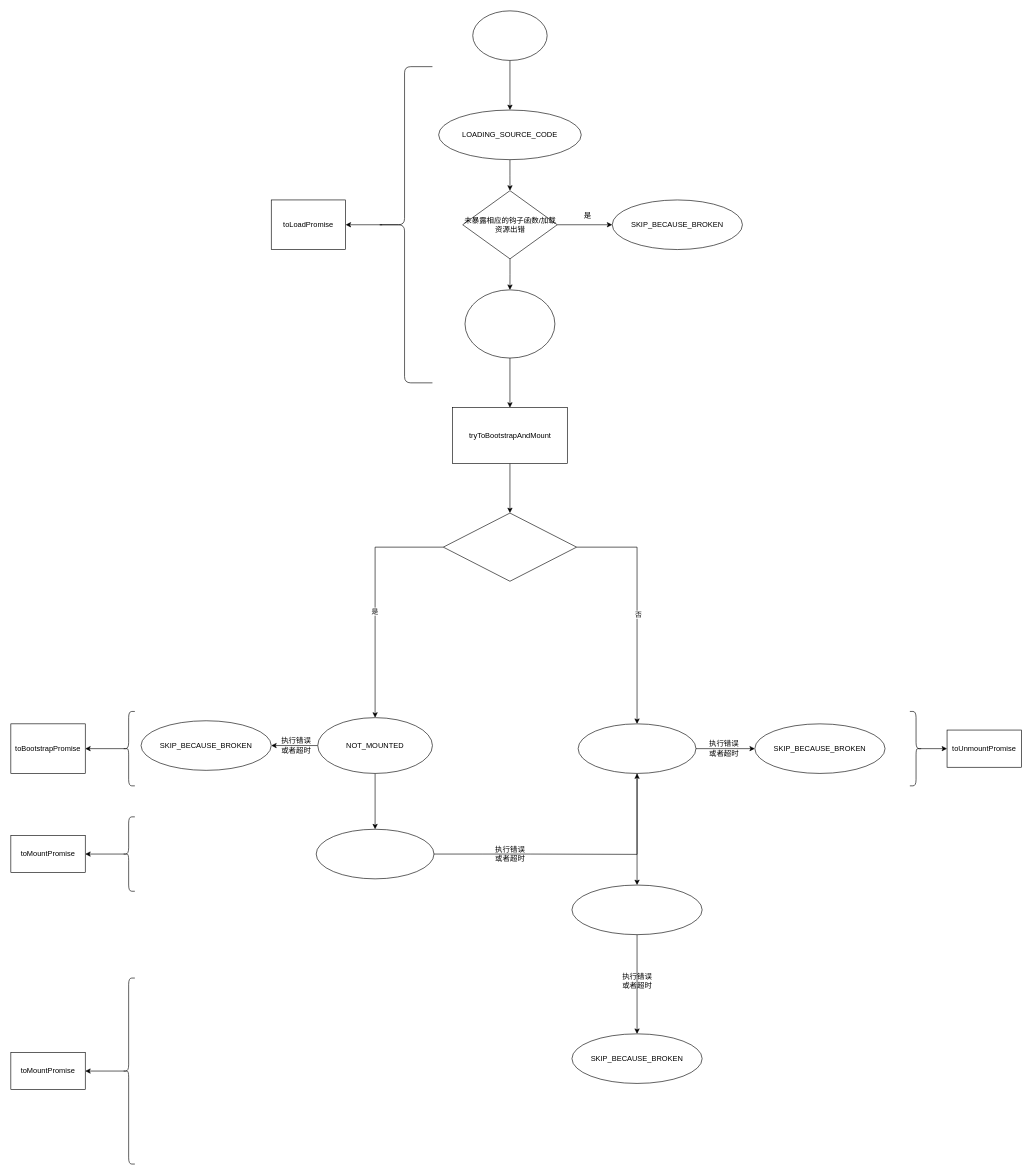
The diagram is 1032 pixels wide and 1175 high, and some of its shapes have lost their labels. The box of each missing label's shape, as (x1, y1, x2, y2) in pixels:
MOUNTED: (316, 829, 434, 879)
NOT_BOOTSTRAPPED: (464, 289, 555, 358)
NOT_LOADED: (472, 10, 547, 60)
UNLOAD: (571, 884, 702, 935)
UNMOUNT: (578, 723, 696, 773)
是否需要激活: (443, 512, 577, 581)
